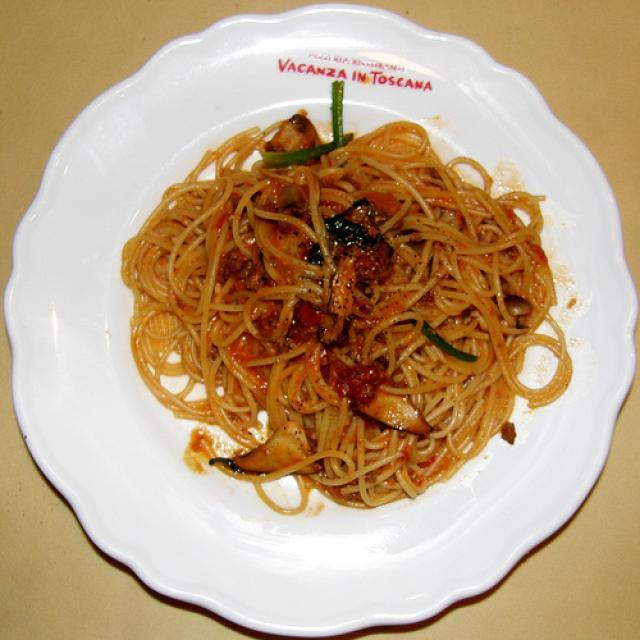Pasta: (127, 114, 572, 512)
